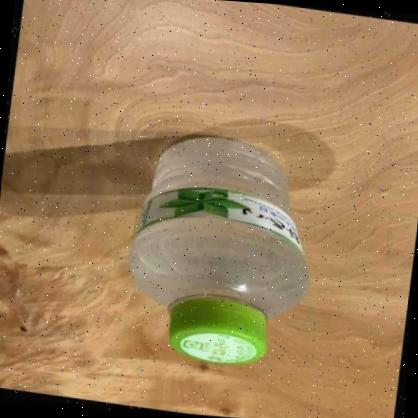bottle: (122, 130, 322, 372)
cap: (166, 292, 270, 367)
label: (135, 183, 309, 260)
